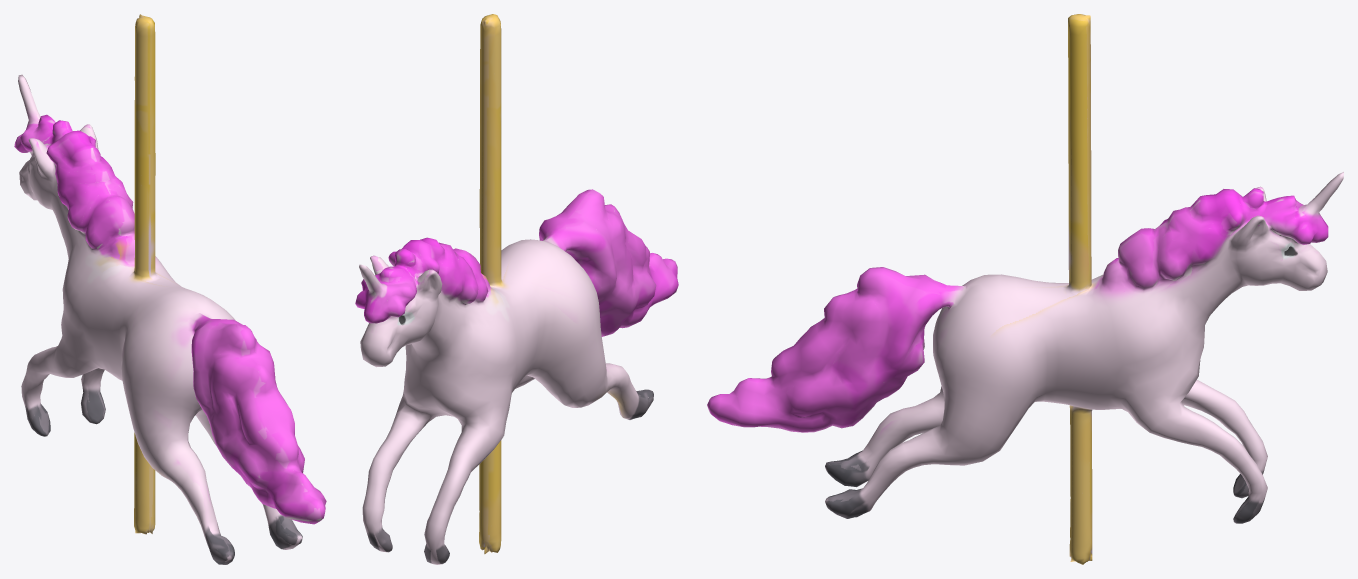
The model's file is Licorne.fbx.
3 renders of one model, left to right at view 1: azimuth 30°, elevation 25°; view 2: azimuth 150°, elevation 25°; view 3: azimuth 270°, elevation 25°, orthographic. The views are drawn at different scales.
Parts seen in each view (by area): view 1: Group20632.001; view 2: Group20632.001; view 3: Group20632.001.
Part boxes in pixels (x1=…): Group20632.001: x1=14, y1=14, x2=326, y2=564; Group20632.001: x1=355, y1=14, x2=678, y2=564; Group20632.001: x1=707, y1=14, x2=1343, y2=564.
Size of the model in its own units: 376 by 1595 by 1687.
